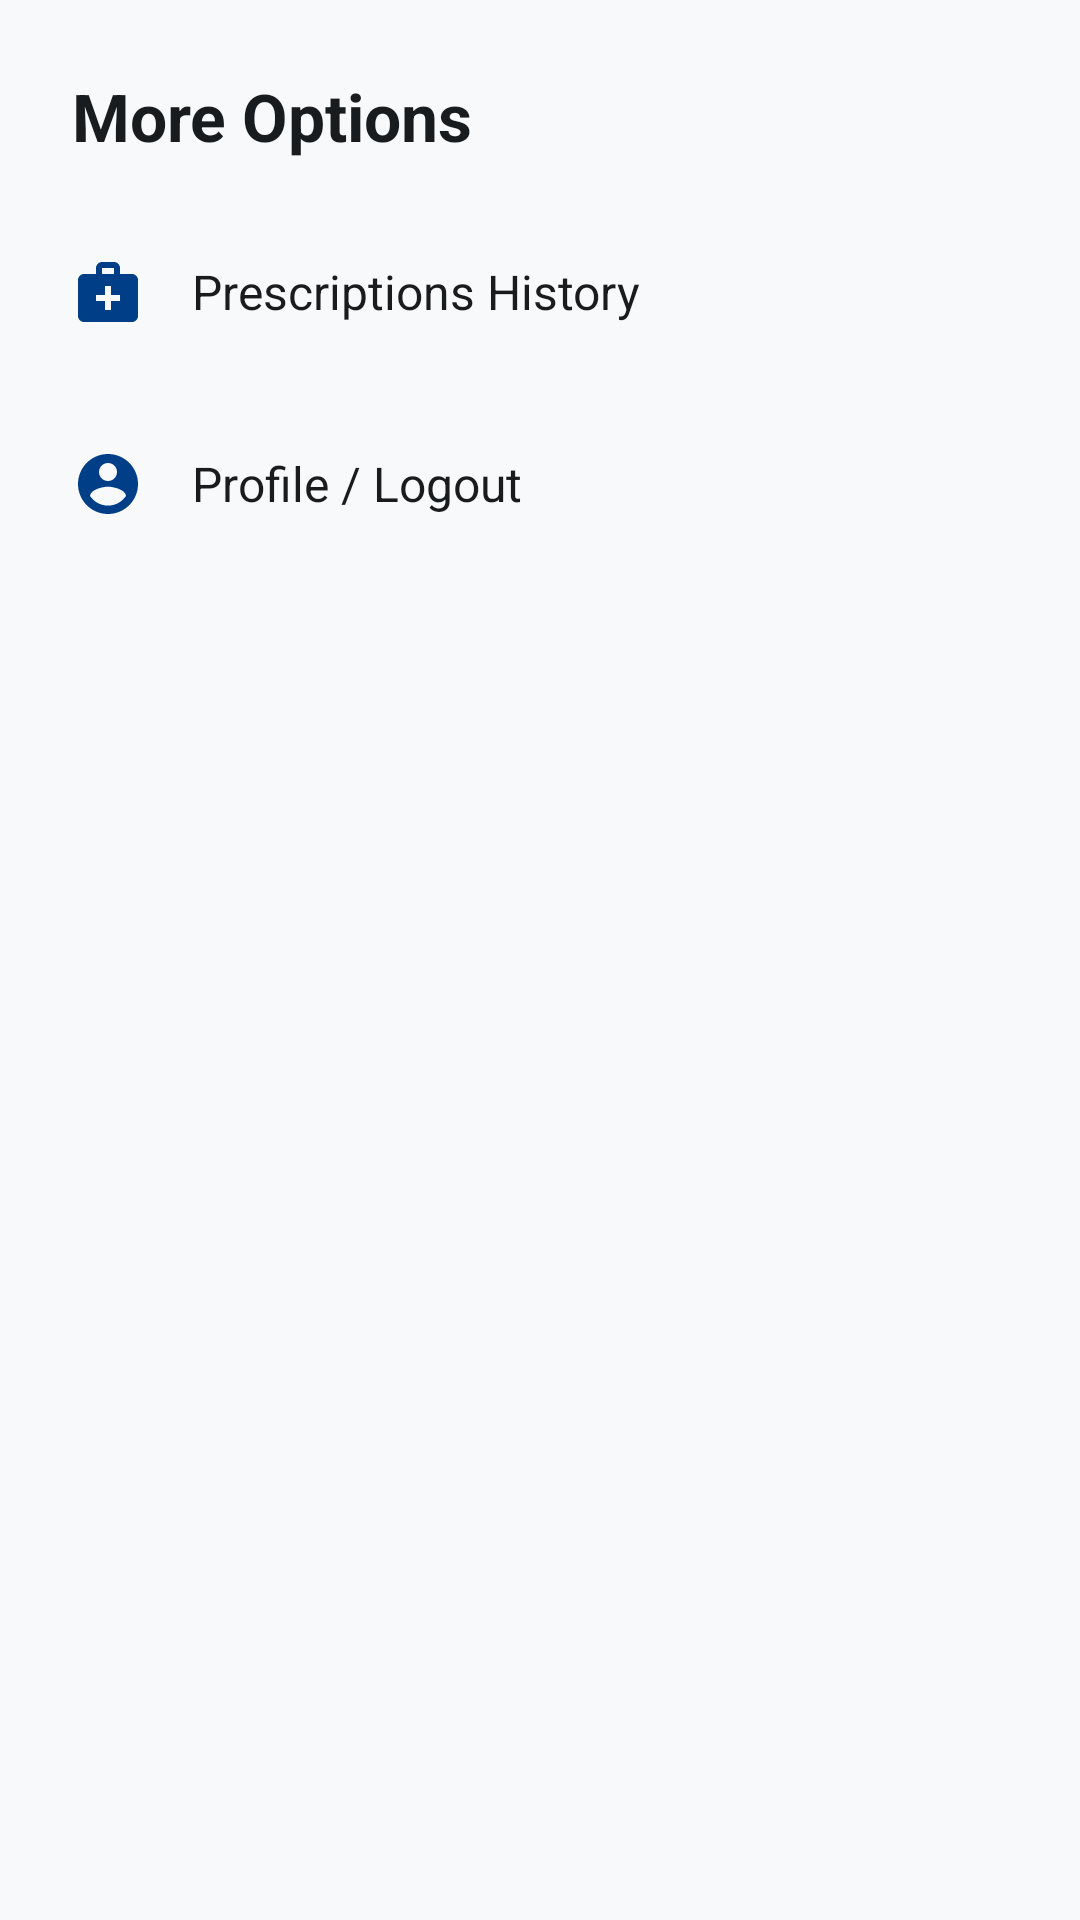

Point at icon controls on the screen. Image size 1080x1920, points as (x,y).
medical services: (108,292)
person: (108,484)
